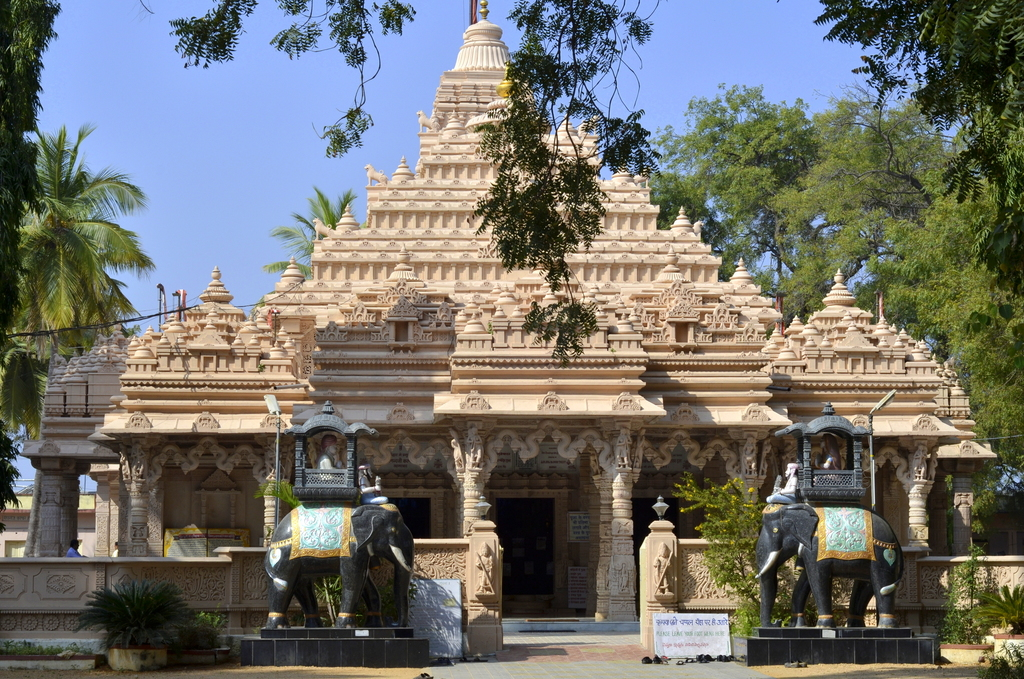Tree: (159, 0, 672, 367), (628, 74, 1020, 472), (816, 0, 1023, 298), (10, 82, 156, 444), (257, 181, 359, 272)
